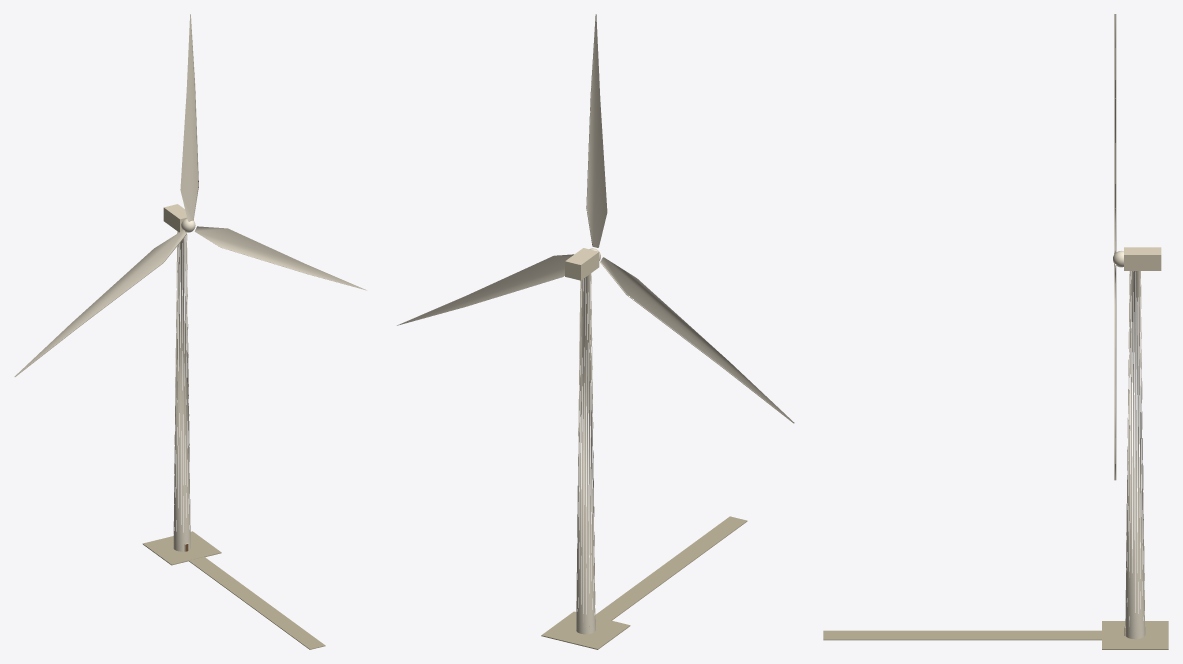
File: wind.glb
The picture shows the model from 3 angles, left to right: view 1: azimuth 30°, elevation 25°; view 2: azimuth 150°, elevation 25°; view 3: azimuth 270°, elevation 25°; orthographic projection. The views are drawn at different scales.
Visible parts, largest first — view 1: wind; view 2: wind; view 3: wind.
Part boxes in pixels (box(x1,y1,x2,y2)): wind: box(14, 14, 366, 649); wind: box(397, 14, 794, 649); wind: box(823, 14, 1168, 649).
Bounding box in the file's own units: 113 × 165 × 83.
